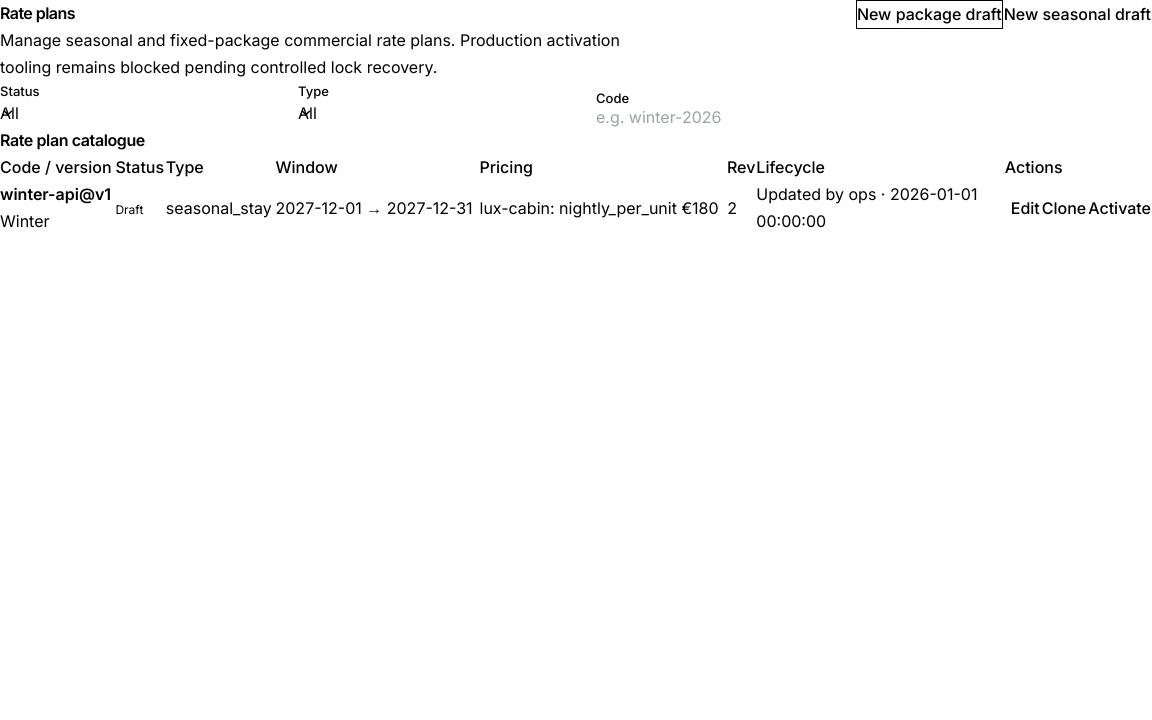
Test case: OpsRatePlans › treats committed activation with cleanup warning as success
Expected: the text "winter-api@v1" is shown, [0,181,115,208]
Click the button "Activate": coordinates (1120, 208) [1087,194,1151,223]
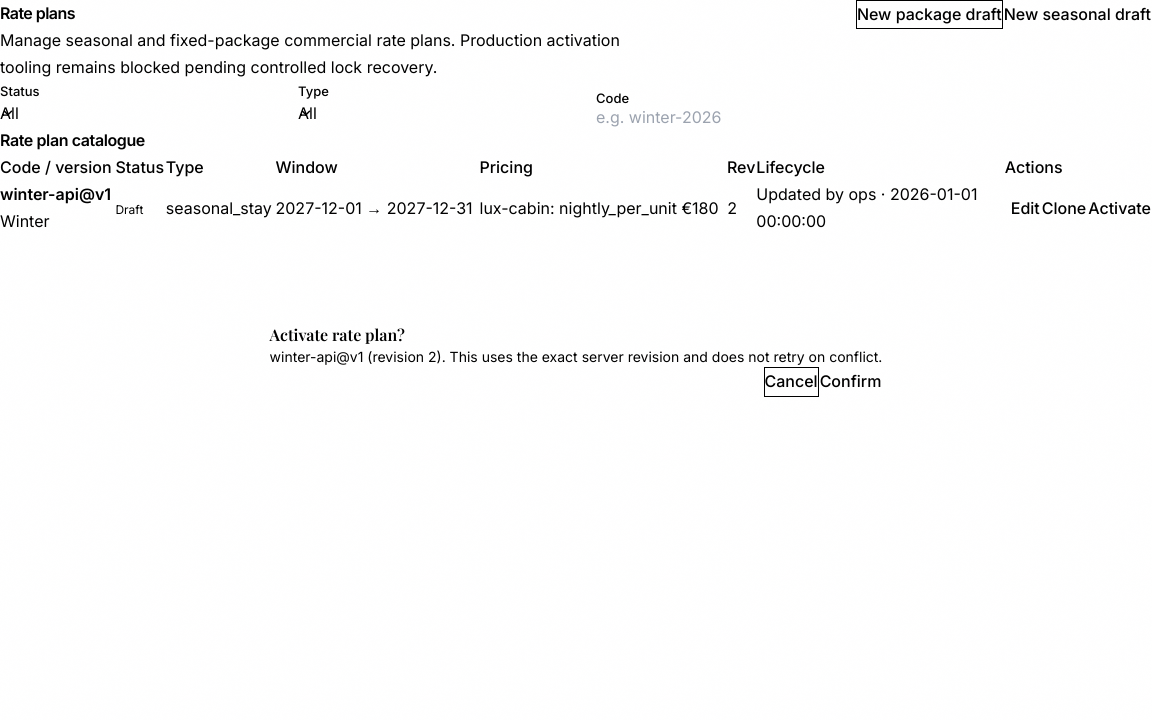
Click the button "Confirm": coordinates (850, 382) [819,367,882,397]
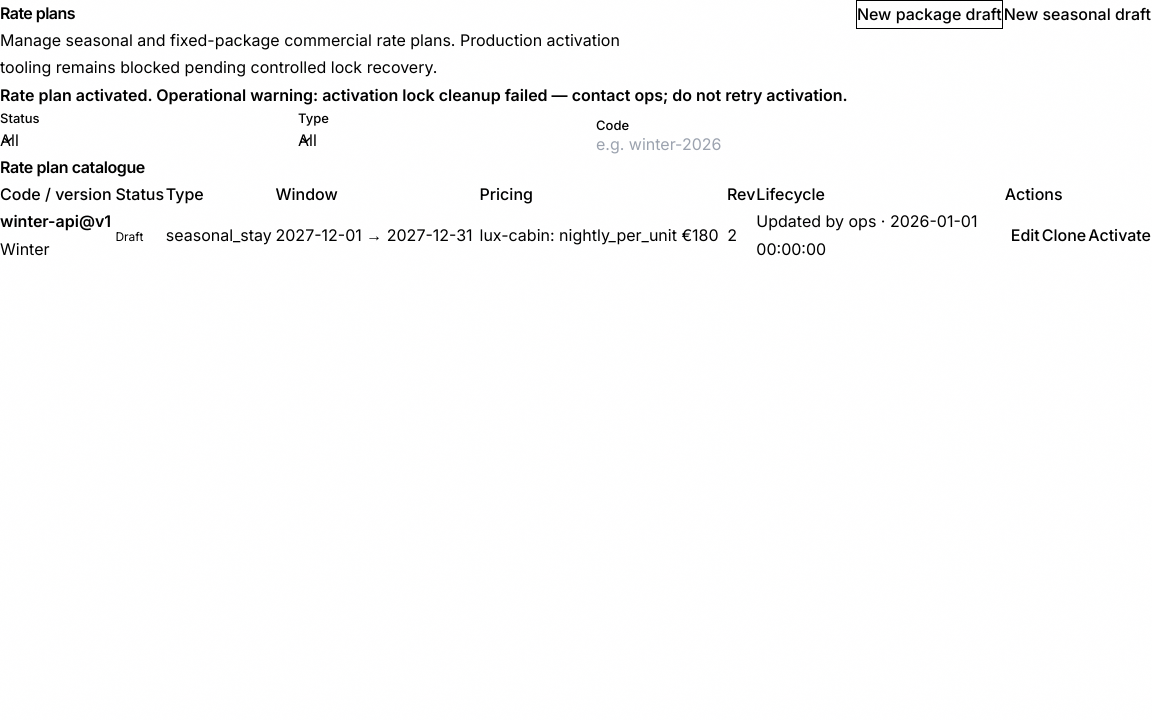
Expected: the message with test id "rate-plans-banner" shows "activated", [0,85,848,105]
Expected: the message with test id "rate-plans-banner" shows "do not retry", [0,85,848,105]
